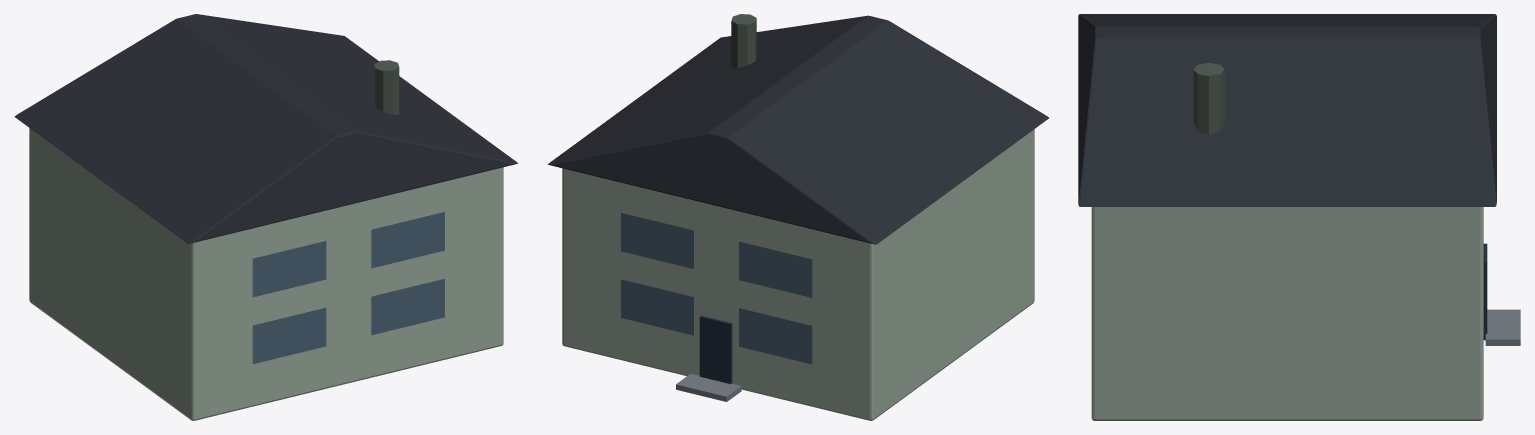
Rendered from bld_house_b.glb.
3 renders of one model, left to right at view 1: azimuth 30°, elevation 25°; view 2: azimuth 150°, elevation 25°; view 3: azimuth 270°, elevation 25°, orthographic. The views are drawn at different scales.
Visible parts, largest first — view 1: Shell, Roof, Windows_y-, Chimney; view 2: Shell, Roof, Windows_y+, Door, Chimney, Step; view 3: Shell, Roof, Chimney, Step, Door.
Boxes of the visible parts, box(x1,y1,x2,y2) form: Shell: box(29, 128, 503, 420); Roof: box(14, 14, 518, 243); Windows_y-: box(252, 212, 444, 363); Chimney: box(374, 60, 399, 114); Shell: box(562, 129, 1034, 420); Roof: box(547, 15, 1048, 244); Windows_y+: box(621, 213, 812, 364); Door: box(699, 315, 732, 383); Chimney: box(731, 14, 756, 68); Step: box(676, 373, 741, 401); Shell: box(1091, 207, 1483, 420); Roof: box(1078, 14, 1496, 206); Chimney: box(1193, 63, 1224, 134); Step: box(1485, 309, 1520, 345); Door: box(1483, 243, 1487, 340).
Size of the model in its own units: 11.64 by 8.8 by 11.29.
